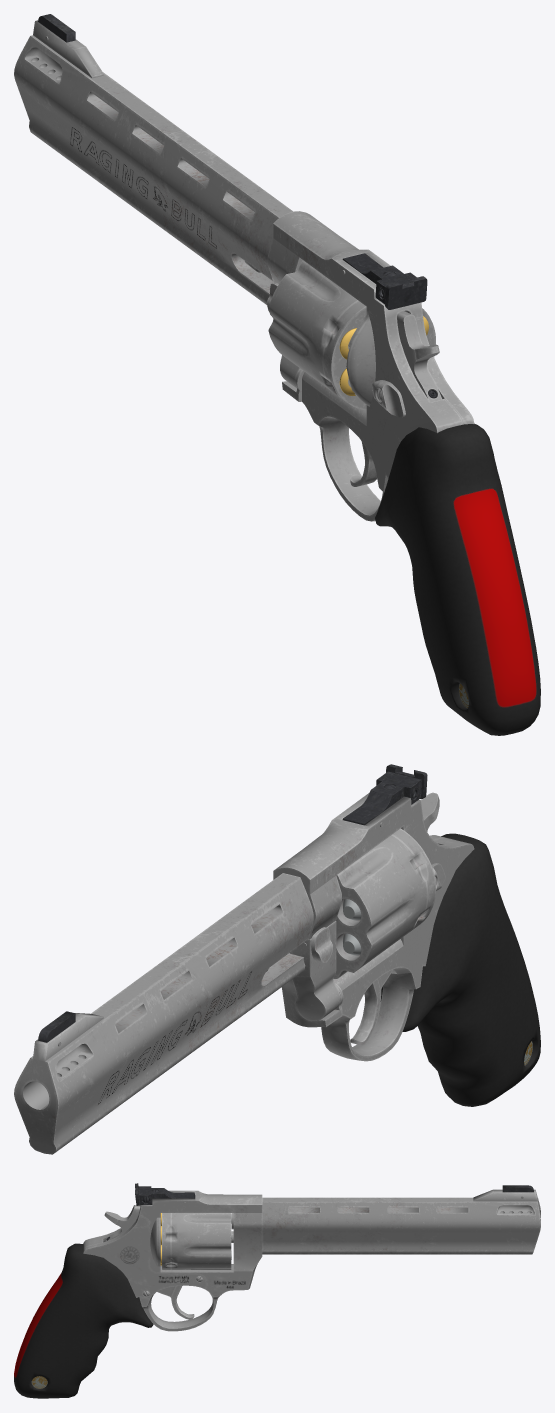
The model's file is taurus_RB_LP.fbx.
3 renders of one model, top to bottom at view 1: azimuth 30°, elevation 25°; view 2: azimuth 150°, elevation 25°; view 3: azimuth 270°, elevation 25°, orthographic. The views are drawn at different scales.
Parts seen in each view (by area): view 1: Grip_LP, Barrel_LP, Frame_LP, Cylinder_LP, Sight_LP, Hammer_LP; view 2: Barrel_LP, Grip_LP, Frame_LP, Cylinder_LP, Carane_LP, Sight_LP, Trigger_LP, FrontLock_LP, FrontSight_LP, Hammer_LP; view 3: Barrel_LP, Grip_LP, Frame_LP, Cylinder_LP, Sight_LP, Hammer_LP, Trigger_LP.
Boxes of the visible parts, x1,y1,x2,y2 form: Grip_LP: (375, 423, 540, 735); Barrel_LP: (14, 20, 292, 304); Frame_LP: (267, 211, 474, 521); Cylinder_LP: (268, 260, 435, 410); Sight_LP: (343, 253, 427, 309); Hammer_LP: (397, 311, 441, 401); Barrel_LP: (14, 873, 313, 1154); Grip_LP: (380, 833, 540, 1106); Frame_LP: (273, 793, 474, 1061); Cylinder_LP: (333, 828, 435, 978); Carane_LP: (291, 921, 340, 1021); Sight_LP: (342, 764, 427, 825); Trigger_LP: (350, 970, 392, 1045); FrontLock_LP: (311, 927, 332, 962); FrontSight_LP: (38, 1011, 75, 1042); Hammer_LP: (421, 792, 439, 844); Barrel_LP: (231, 1189, 540, 1254); Grip_LP: (14, 1243, 153, 1398); Frame_LP: (83, 1190, 262, 1331); Cylinder_LP: (162, 1213, 231, 1269); Sight_LP: (135, 1183, 195, 1205); Hammer_LP: (103, 1205, 140, 1242); Trigger_LP: (157, 1286, 194, 1319).
Size of the model in its own units: 44.31 by 155 by 354.
